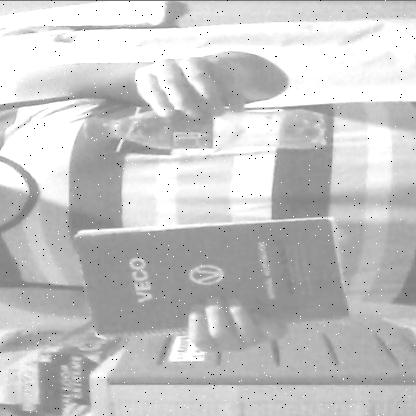Plastic Bottle: (66, 101, 342, 158)
